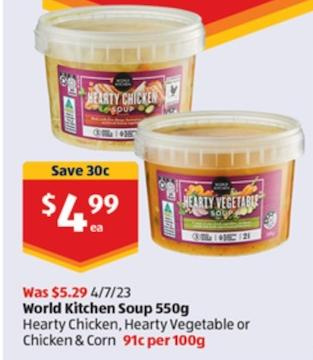description_block: (19, 302, 254, 351)
price_main: (19, 182, 142, 267)
product_image_block: (139, 98, 301, 266)
promo_text_block: (11, 155, 146, 183)
unit_price_block: (115, 328, 207, 354)
